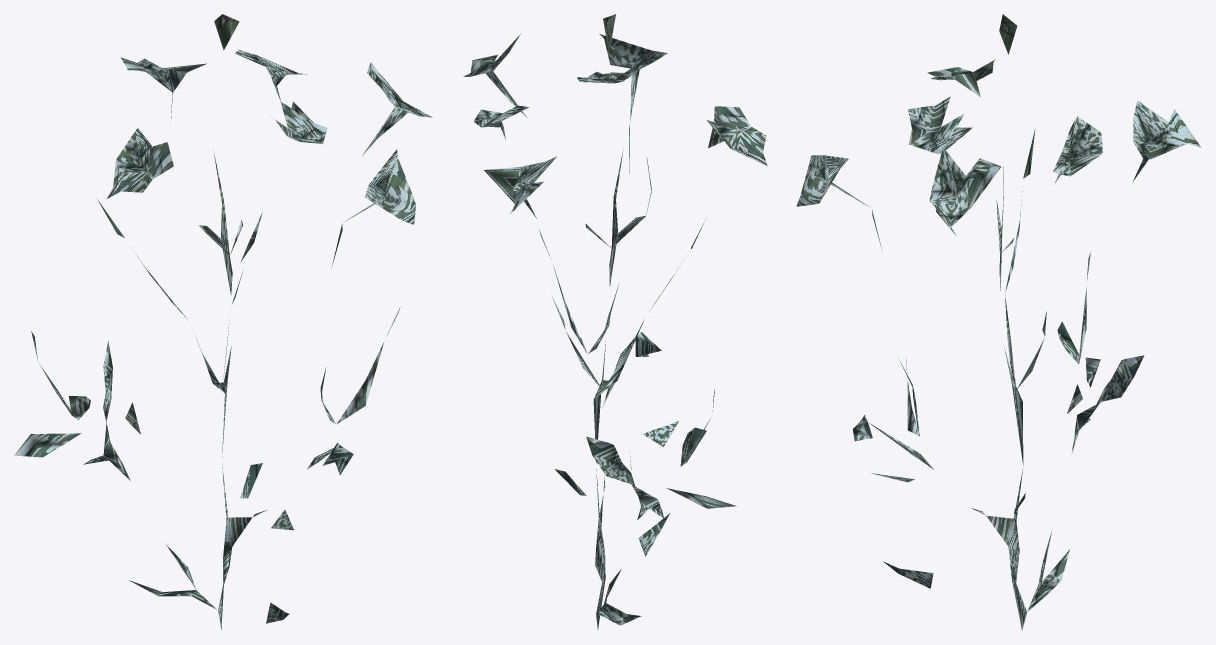
Rendered from flower.glb.
3 views of the same model, side by side, from view 1: azimuth 30°, elevation 25°; view 2: azimuth 150°, elevation 25°; view 3: azimuth 270°, elevation 25° (orthographic). The views are drawn at different scales.
Bounding box in the file's own units: 0.8892 × 1.52 × 0.9101.
1 material, 1 textured.
